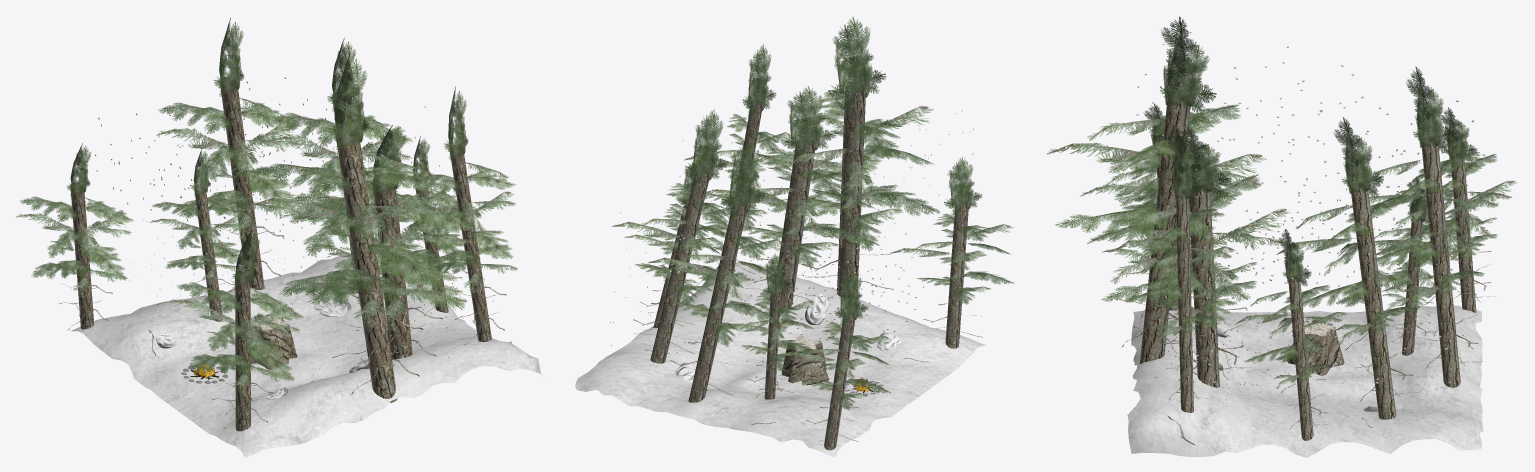
File: snowy_forest.glb
3 views of the same model, side by side, from view 1: azimuth 30°, elevation 25°; view 2: azimuth 150°, elevation 25°; view 3: azimuth 270°, elevation 25° (orthographic). The views are drawn at different scales.
Visible parts, largest first — view 1: polySurface43, polySurface100, polySurface126, polySurface128, polySurface201, polySurface125, polySurface127, polySurface130, pPlane37, polySurface129, pasted__TreeStump, pDisc65; view 2: polySurface43, polySurface100, polySurface126, polySurface128, polySurface130, polySurface201, polySurface127, polySurface125, pPlane37, polySurface129, pasted__TreeStump, pDisc65 (+1 smaller); view 3: polySurface43, polySurface100, polySurface126, polySurface128, polySurface130, polySurface125, polySurface129, polySurface127, pPlane37, polySurface201, pDisc65, pasted__TreeStump.
Boxes of the visible parts, x1=… form: polySurface43: x1=71, y1=254, x2=543, y2=457; polySurface100: x1=247, y1=52, x2=448, y2=402; polySurface126: x1=283, y1=125, x2=476, y2=359; polySurface128: x1=156, y1=18, x2=301, y2=292; polySurface201: x1=169, y1=229, x2=303, y2=431; polySurface125: x1=405, y1=86, x2=517, y2=345; polySurface127: x1=16, y1=143, x2=133, y2=330; polySurface130: x1=270, y1=38, x2=412, y2=292; pPlane37: x1=149, y1=148, x2=249, y2=321; polySurface129: x1=373, y1=136, x2=472, y2=316; pasted__TreeStump: x1=250, y1=316, x2=297, y2=369; pDisc65: x1=87, y1=77, x2=493, y2=369; polySurface43: x1=575, y1=262, x2=986, y2=457; polySurface100: x1=752, y1=17, x2=939, y2=300; polySurface126: x1=706, y1=86, x2=879, y2=312; polySurface128: x1=648, y1=138, x2=786, y2=402; polySurface130: x1=612, y1=109, x2=748, y2=363; polySurface201: x1=889, y1=157, x2=1013, y2=348; polySurface127: x1=781, y1=270, x2=891, y2=450; polySurface125: x1=684, y1=44, x2=791, y2=273; pPlane37: x1=725, y1=253, x2=816, y2=399; polySurface129: x1=624, y1=162, x2=719, y2=327; pasted__TreeStump: x1=781, y1=336, x2=829, y2=385; pDisc65: x1=610, y1=110, x2=973, y2=385; polySurface43: x1=1127, y1=305, x2=1483, y2=457; polySurface100: x1=1047, y1=16, x2=1266, y2=363; polySurface126: x1=1087, y1=126, x2=1290, y2=387; polySurface128: x1=1348, y1=66, x2=1506, y2=387; polySurface130: x1=1276, y1=117, x2=1439, y2=419; polySurface125: x1=1116, y1=125, x2=1236, y2=412; polySurface129: x1=1236, y1=229, x2=1346, y2=440; polySurface127: x1=1395, y1=107, x2=1516, y2=312; pPlane37: x1=1356, y1=176, x2=1461, y2=355; polySurface201: x1=1080, y1=103, x2=1230, y2=310; pDisc65: x1=1136, y1=32, x2=1487, y2=406; pasted__TreeStump: x1=1287, y1=321, x2=1344, y2=375.
Size of the model in its own units: 1051 by 969 by 1151.
Materials: 7 (6 with a texture image).
